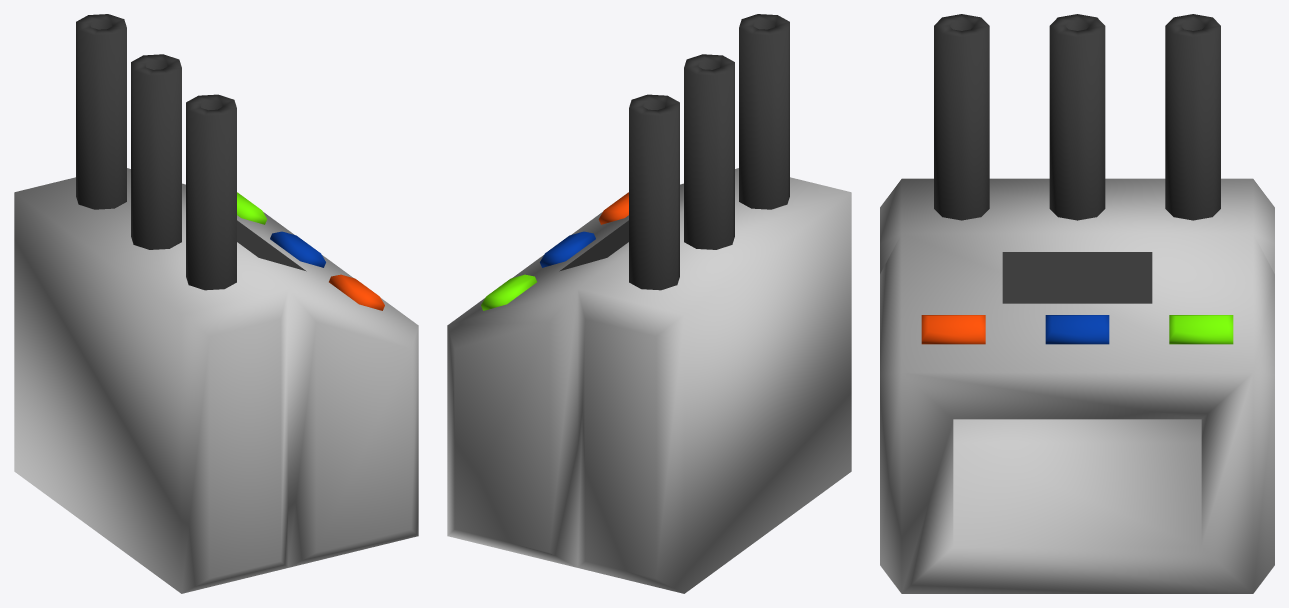
File: Mashin.fbx
3 views of the same model, side by side, from view 1: azimuth 30°, elevation 25°; view 2: azimuth 150°, elevation 25°; view 3: azimuth 270°, elevation 25° (orthographic). The views are drawn at different scales.
Visible parts, largest first — view 1: Mashin, Trub, Screen; view 2: Mashin, Trub, Screen; view 3: Mashin, Trub, Screen.
Part boxes in pixels (left/top/right/bottom): Mashin: left=14, top=168, right=418, bottom=593; Trub: left=76, top=14, right=236, bottom=290; Screen: left=237, top=220, right=306, bottom=271; Mashin: left=447, top=168, right=851, bottom=593; Trub: left=629, top=14, right=789, bottom=290; Screen: left=559, top=220, right=628, bottom=271; Mashin: left=880, top=178, right=1274, bottom=593; Trub: left=934, top=14, right=1220, bottom=220; Screen: left=1002, top=252, right=1152, bottom=303.
Size of the model in its own units: 118 by 217 by 163.
